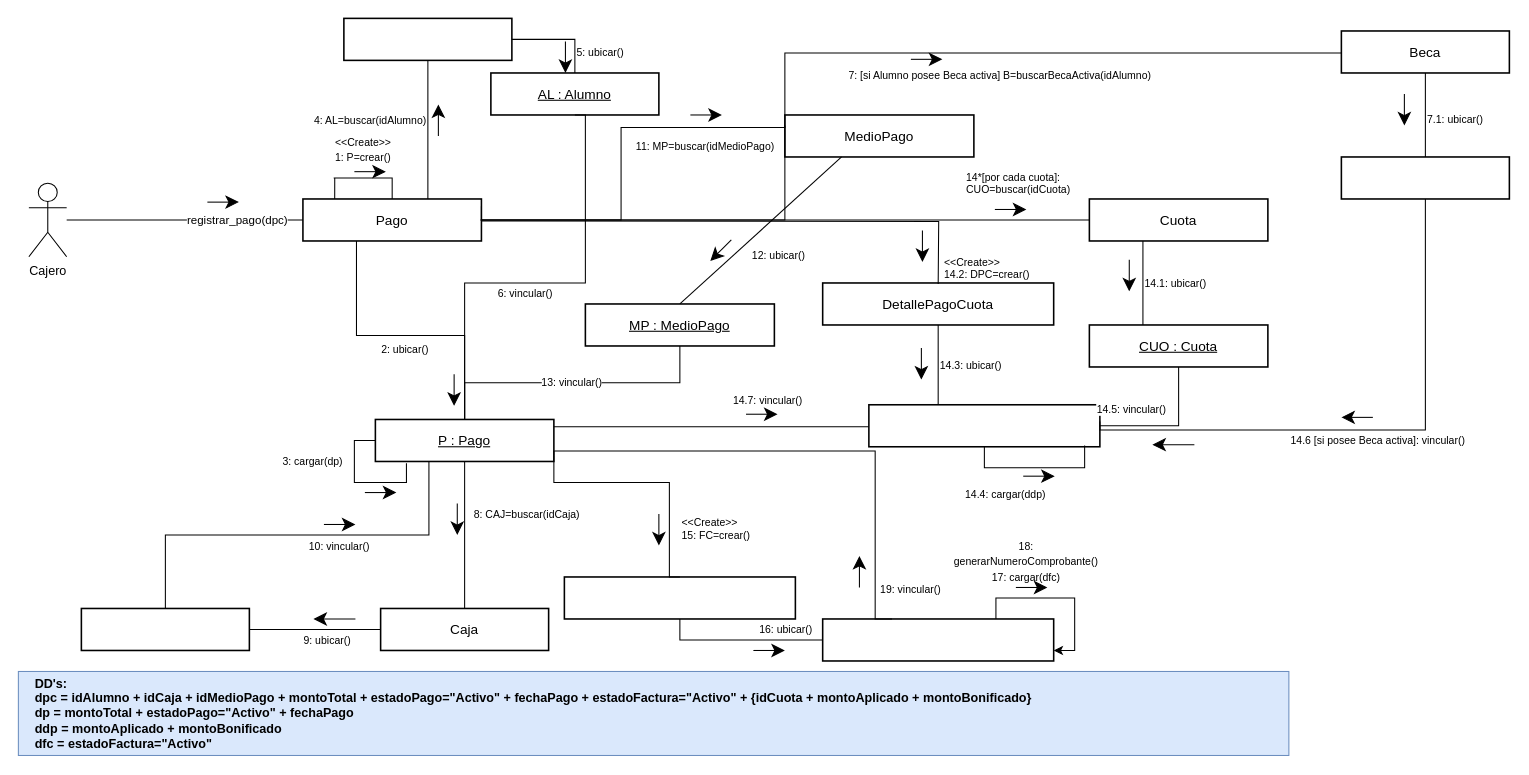
This 1529x775 diagram has some shape labels left out. The centre of each missing label's shape, as x and y in pixels:
Alumno: the point at 427,39
B : Beca: the point at 1425,177
CAJ : Caja: the point at 165,629
DPC : DetallePagoCuota: the point at 984,425
FacturaComprobante: the point at 679,597
FC : FacturaComprobante: the point at 937,639
